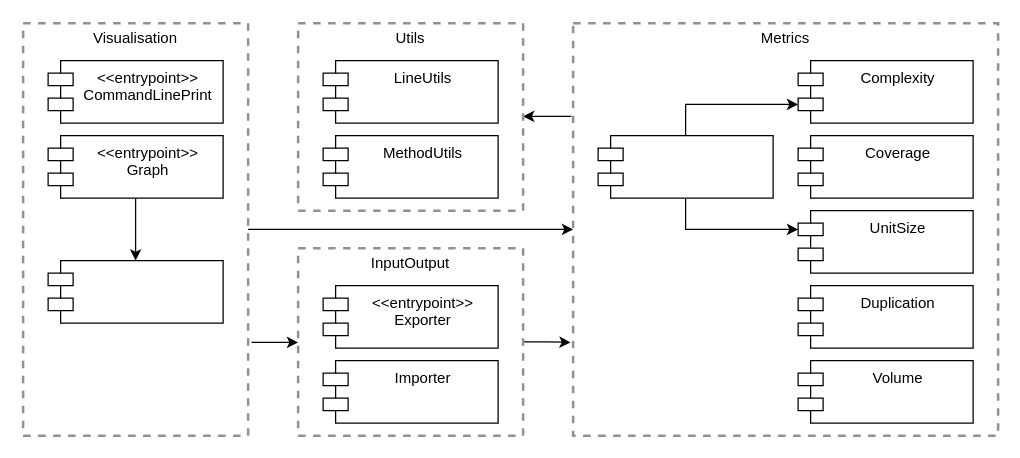
The diagram is 1020 pixels wide and 458 high, and some of its shapes have lost their labels. Here are the shapes that lost their labels. From the top down, the centre of each, then its label:
(x=685, y=166): Maintainability
(x=135, y=291): IndentedTree
